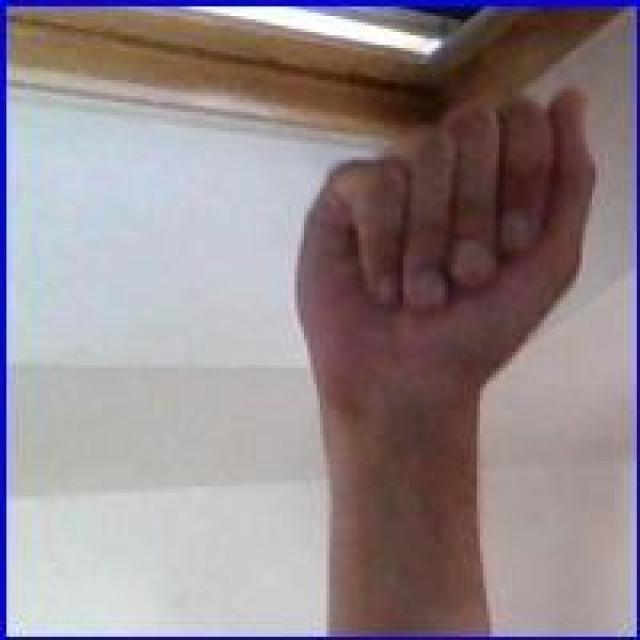A: (294, 54, 598, 403)
